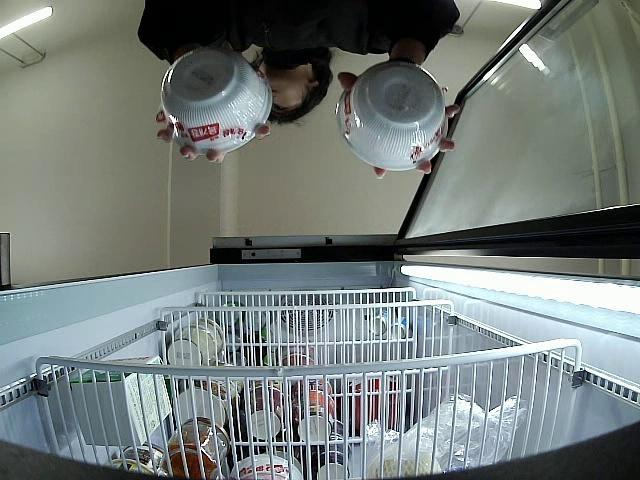09_yukGaeJang: (336, 62, 451, 169), (160, 50, 271, 152)
